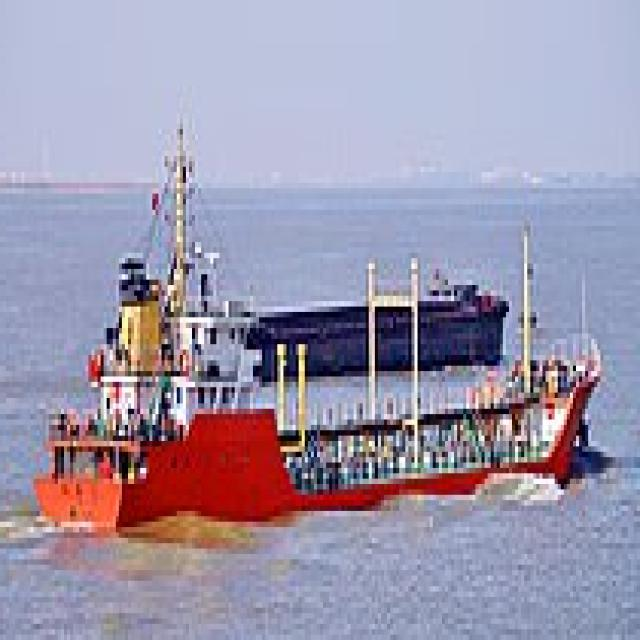Tanker: (31, 108, 606, 532)
